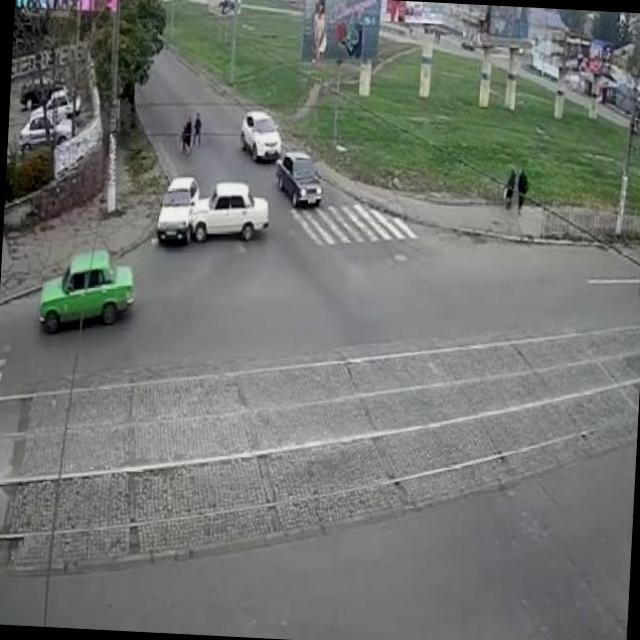accident: (155, 174, 273, 254)
